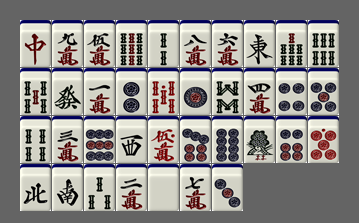0m: (148, 116, 179, 163)
0p: (308, 116, 339, 163)
0s: (148, 68, 179, 115)
1m: (84, 68, 115, 115)
1p: (180, 68, 211, 115)
1s: (244, 116, 275, 163)
1z: (244, 20, 275, 67)
2m: (116, 164, 147, 211)
2p: (116, 68, 147, 115)
2s: (148, 20, 179, 67)
2z: (52, 164, 83, 211)
3m: (52, 116, 83, 163)
3p: (212, 164, 243, 211)
3s: (84, 164, 115, 211)
3z: (116, 116, 147, 163)
4m: (244, 68, 275, 115)
4p: (276, 68, 307, 115)
4s: (20, 116, 51, 163)
4z: (20, 164, 51, 211)
5m: (84, 20, 115, 67)
5p: (308, 68, 339, 115)
5s: (20, 68, 51, 115)
5z: (148, 164, 179, 211)
6m: (212, 20, 243, 67)
6p: (276, 116, 307, 163)
6s: (308, 20, 339, 67)
6z: (52, 68, 83, 115)
7m: (180, 164, 211, 211)
7p: (180, 116, 211, 163)
7s: (276, 20, 307, 67)
7z: (20, 20, 51, 67)
8m: (180, 20, 211, 67)
8p: (212, 116, 243, 163)
8s: (212, 68, 243, 115)
9m: (52, 20, 83, 67)
9p: (84, 116, 115, 163)
9s: (116, 20, 147, 67)
